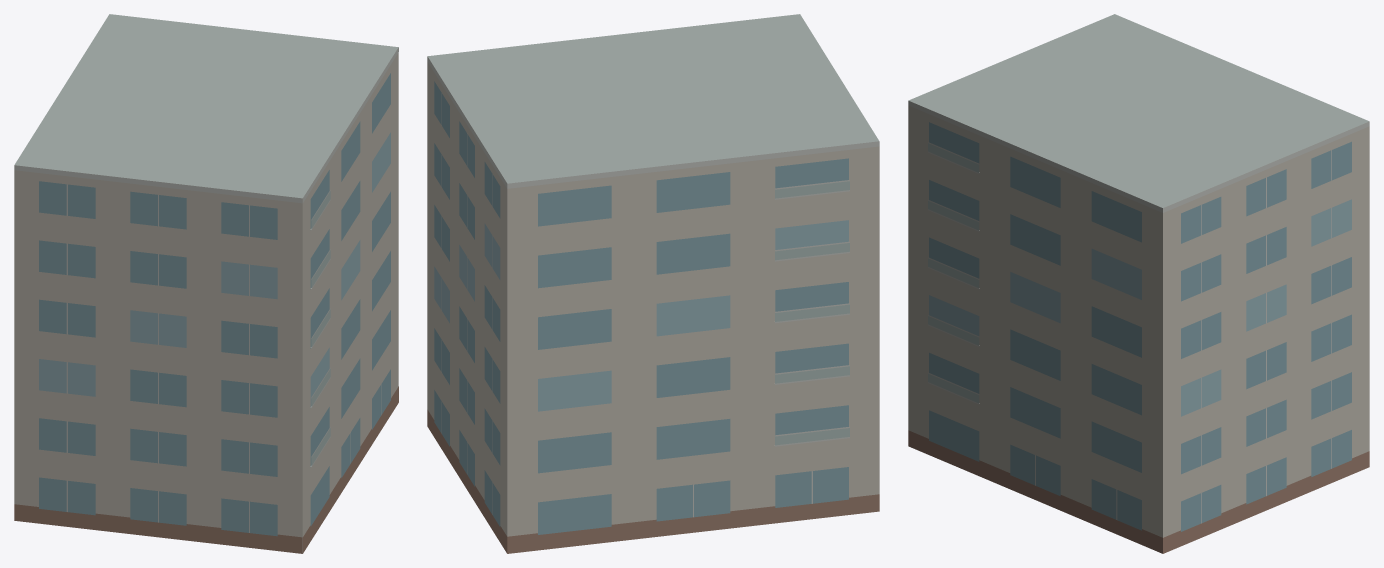
File: survey-upis-32747438.glb
3 views of the same model, side by side, from view 1: azimuth 30°, elevation 25°; view 2: azimuth 150°, elevation 25°; view 3: azimuth 270°, elevation 25° (orthographic). The views are drawn at different scales.
Visible parts, largest first — view 1: survey-upis-32747438.tmp; view 2: survey-upis-32747438.tmp; view 3: survey-upis-32747438.tmp.
Part boxes in pixels (x1,y1,x2,y2): survey-upis-32747438.tmp: (14,14,398,553); survey-upis-32747438.tmp: (427,14,879,553); survey-upis-32747438.tmp: (908,14,1369,553).
Bounding box in the file's own units: 20.97 × 17.4 × 21.05.
